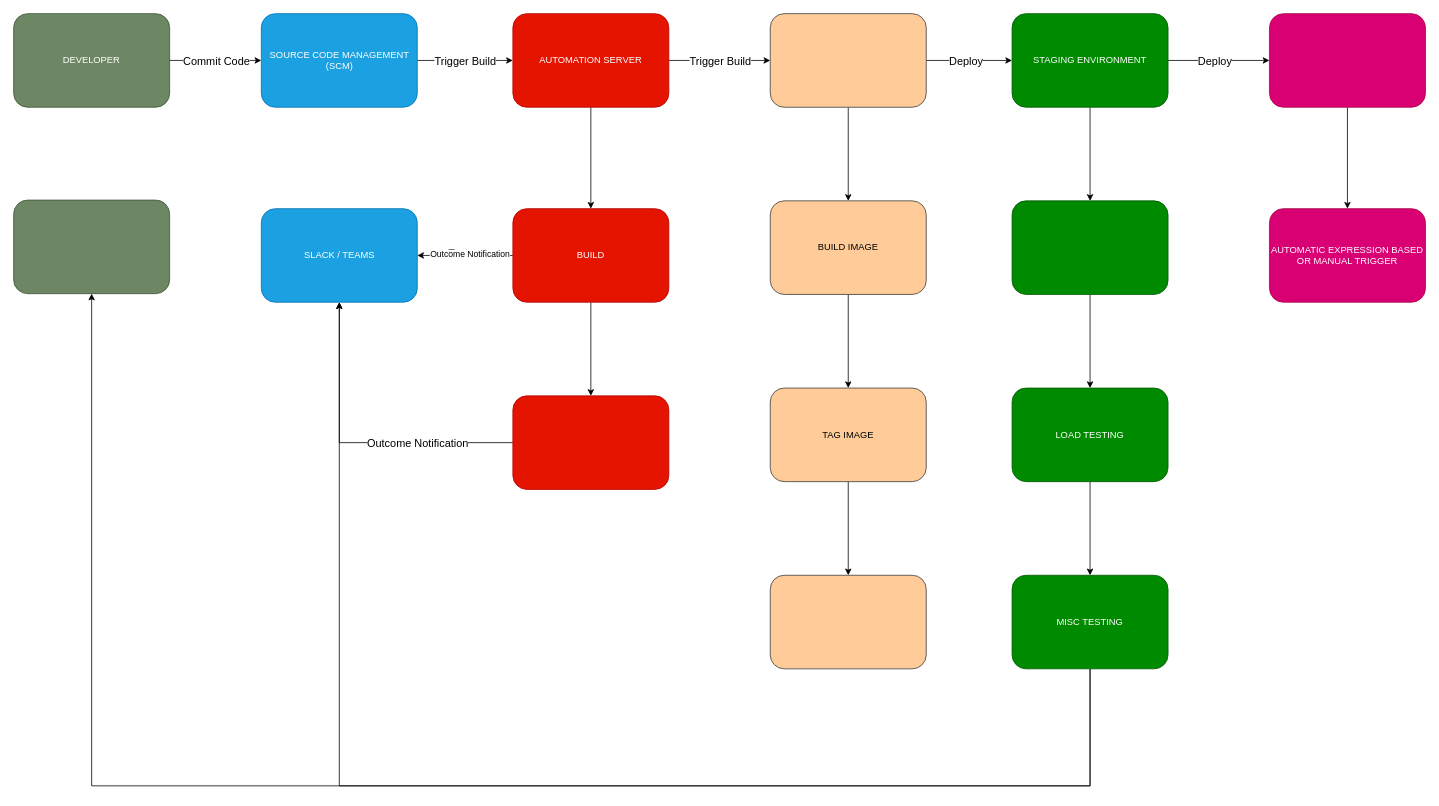
This 1439x806 diagram has some shape labels left out. Here are the shapes that lost their labels. From the top down, the box of each, then its label:
(769, 13, 926, 107): CONTAINER SERVICE
(1269, 13, 1425, 107): PRODUCTION
(13, 199, 170, 294): STORAGE SERVICE
(1011, 200, 1168, 294): INTEGRATION TESTING
(512, 395, 669, 489): UNIT TESTING
(769, 574, 926, 669): PUSH IMAGE TO REGISTRY
